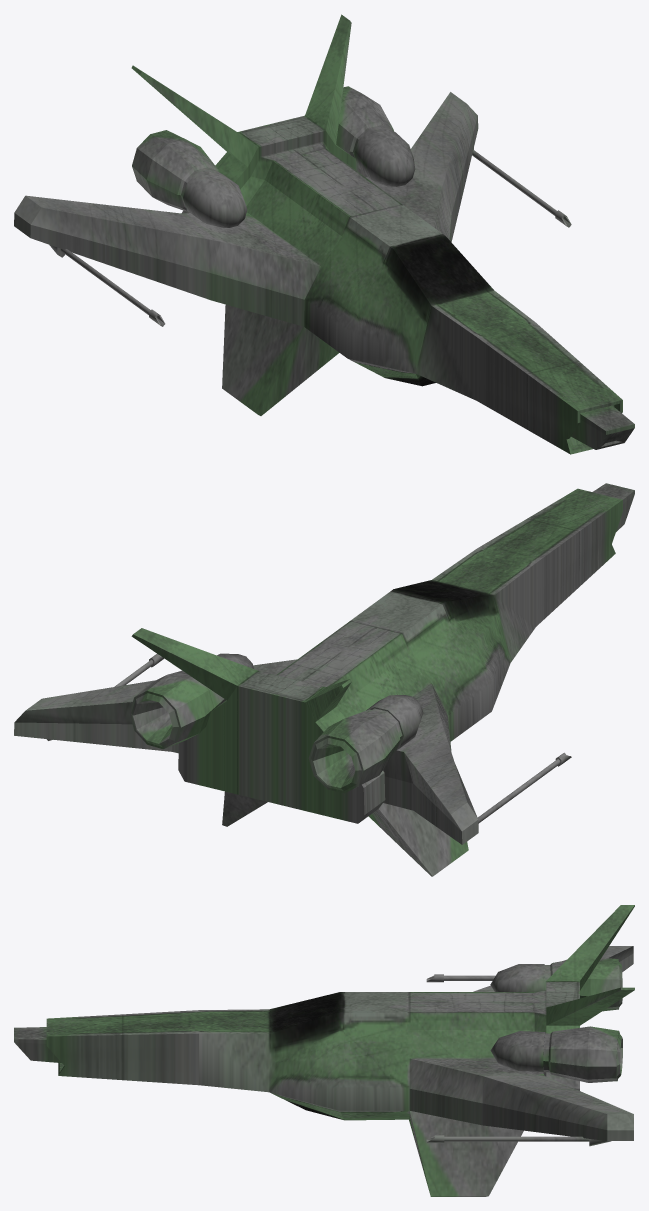
The model's file is pew pew team 1.FBX.
The picture shows the model from 3 angles, top to bottom: view 1: azimuth 30°, elevation 25°; view 2: azimuth 150°, elevation 25°; view 3: azimuth 270°, elevation 25°; orthographic projection. The views are drawn at different scales.
Parts seen in each view (by area): view 1: pew_pew:Cylinder002; view 2: pew_pew:Cylinder002; view 3: pew_pew:Cylinder002.
Part boxes in pixels (x1=…): pew_pew:Cylinder002: x1=14, y1=14, x2=634, y2=454; pew_pew:Cylinder002: x1=14, y1=483, x2=634, y2=876; pew_pew:Cylinder002: x1=14, y1=905, x2=634, y2=1196.
Bounding box in the file's own units: 122 × 67.23 × 180.
1 material, 1 textured.
